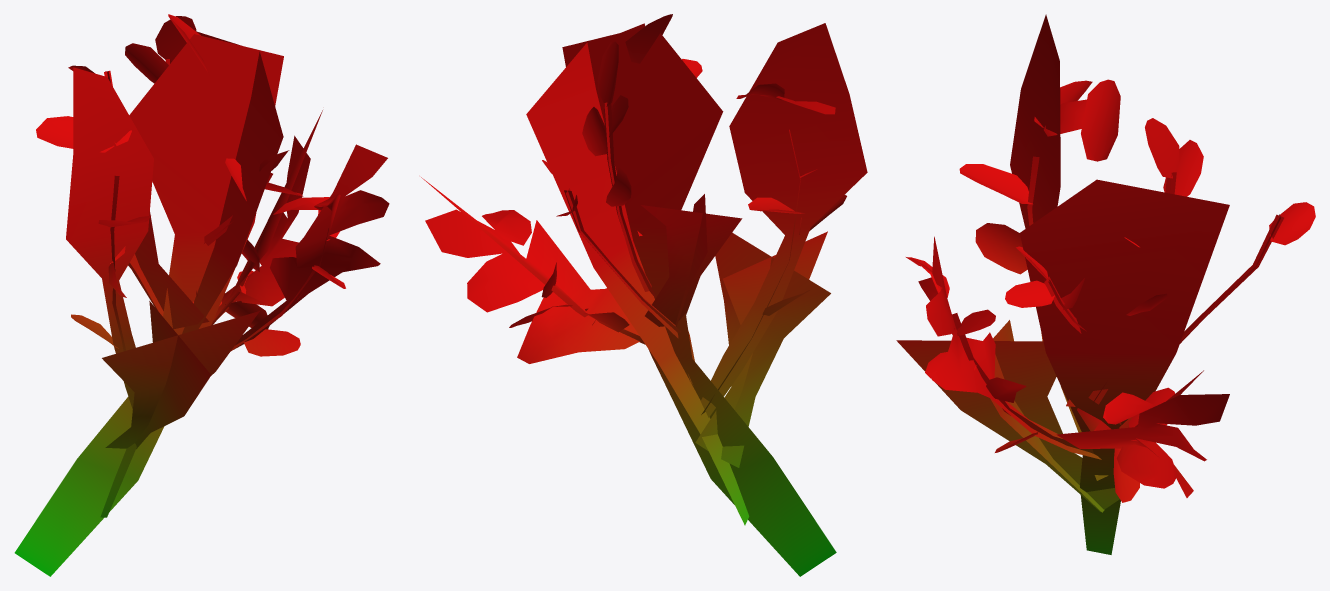
File: Bilberry_LOD0_Var10_vldufeiha.fbx
The picture shows the model from 3 angles, left to right: view 1: azimuth 30°, elevation 25°; view 2: azimuth 150°, elevation 25°; view 3: azimuth 270°, elevation 25°; orthographic projection. The views are drawn at different scales.
Visible parts, largest first — view 1: _ylqj_Var10_LOD0; view 2: _ylqj_Var10_LOD0; view 3: _ylqj_Var10_LOD0.
Part boxes in pixels (x1=…): _ylqj_Var10_LOD0: x1=14, y1=14, x2=389, y2=576; _ylqj_Var10_LOD0: x1=421, y1=14, x2=867, y2=576; _ylqj_Var10_LOD0: x1=896, y1=14, x2=1315, y2=554.
Bounding box in the file's own units: 8.14 × 11.38 × 7.7.
